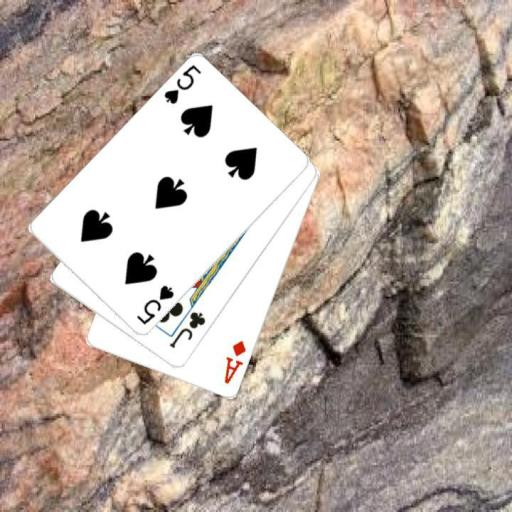5S: (160, 62, 203, 106), (134, 283, 176, 327)
AD: (221, 338, 248, 386)
JC: (167, 309, 208, 351)
